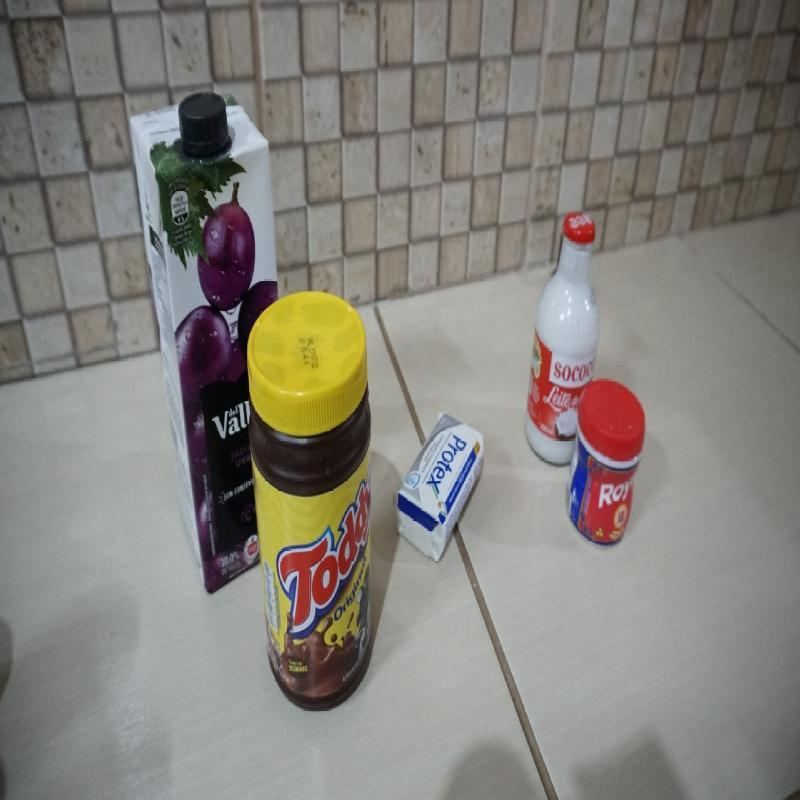Chocolate Powder: (246, 291, 374, 714)
Coconut Milk: (523, 210, 602, 469)
Soap: (396, 414, 484, 558)
Yeast: (566, 378, 645, 549)
